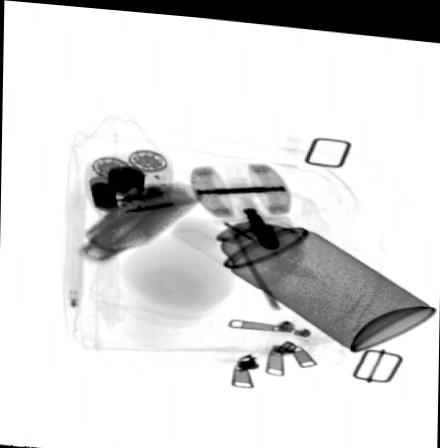Sprayer: (168, 185, 439, 347)
